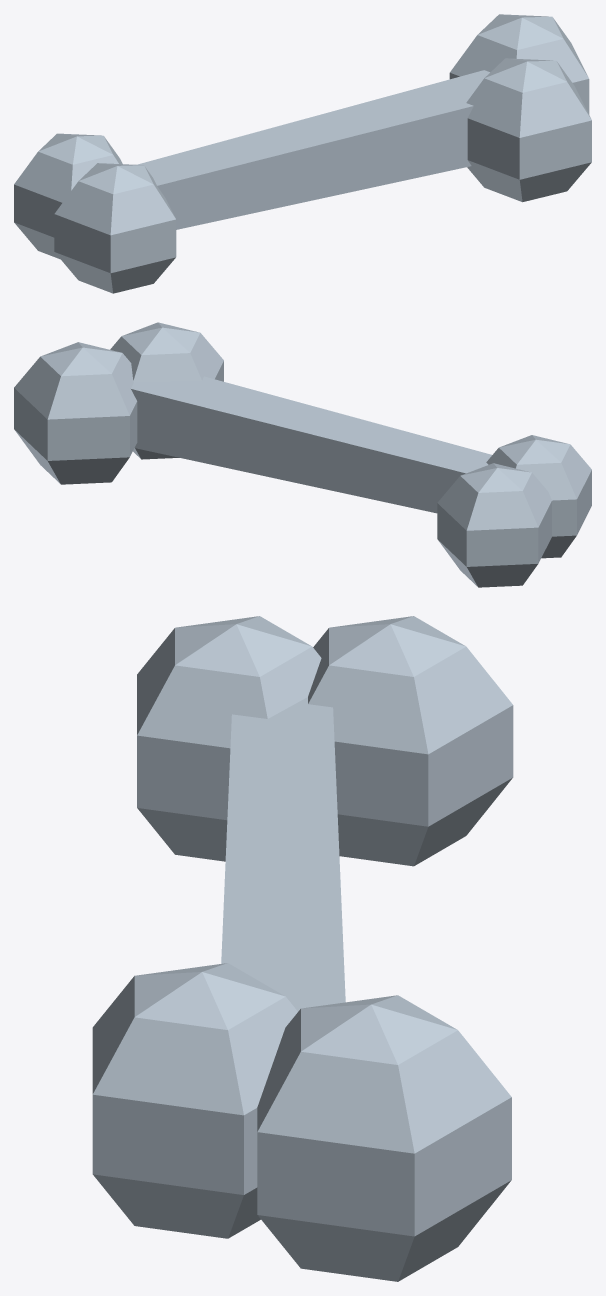
Rendered from Desert_Bone.fbx.
3 renders of one model, top to bottom at view 1: azimuth 30°, elevation 25°; view 2: azimuth 150°, elevation 25°; view 3: azimuth 270°, elevation 25°, orthographic. The views are drawn at different scales.
Parts seen in each view (by area): view 1: 1 bone; view 2: 1 bone; view 3: 1 bone.
Part boxes in pixels (left/top/right/bottom): 1 bone: left=14, top=14, right=591, bottom=293; 1 bone: left=14, top=322, right=591, bottom=587; 1 bone: left=92, top=616, right=513, bottom=1281.
Size of the model in its own units: 250 by 60.77 by 86.41.
